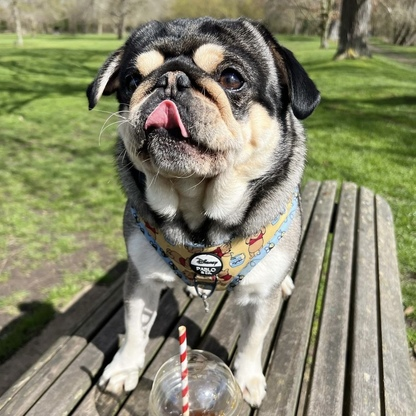Pug: (83, 13, 323, 411)
